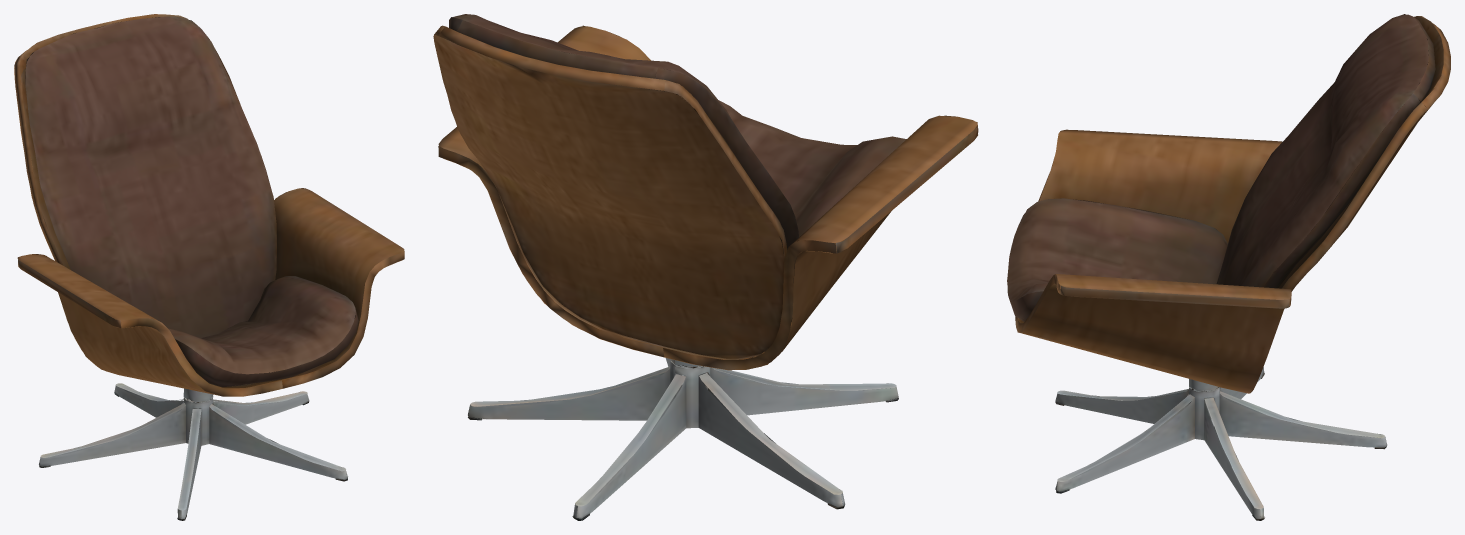
Rendered from mid_century_lounge_chair.glb.
The picture shows the model from 3 angles, left to right: view 1: azimuth 30°, elevation 25°; view 2: azimuth 150°, elevation 25°; view 3: azimuth 270°, elevation 25°; orthographic projection. The views are drawn at different scales.
Parts seen in each view (by area): view 1: mid_century_lounge_chair; view 2: mid_century_lounge_chair; view 3: mid_century_lounge_chair.
Boxes of the visible parts, x1,y1,x2,y2 form: mid_century_lounge_chair: (14,14,404,520); mid_century_lounge_chair: (433,14,978,520); mid_century_lounge_chair: (1007,14,1450,520).
Bounding box in the file's own units: 1.01 × 1.17 × 1.19.
Materials: 1 (1 with a texture image).
